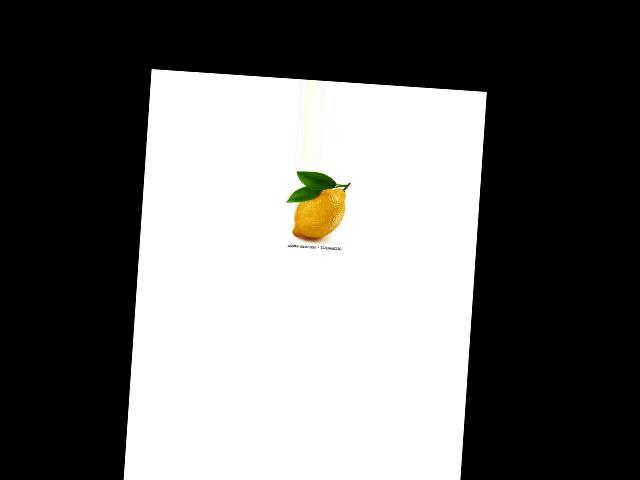lemon: (287, 177, 349, 242)
